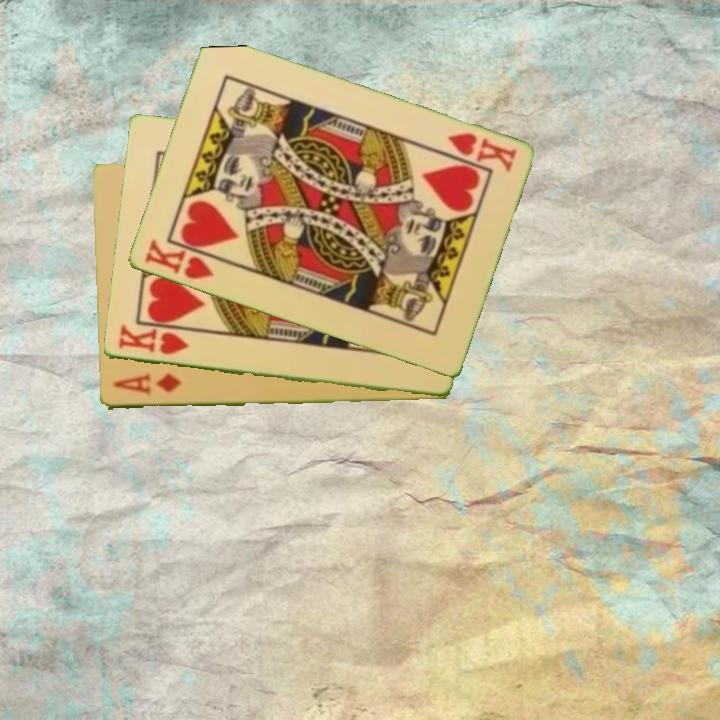Ad: (109, 371, 183, 399)
Kh: (140, 236, 225, 283), (442, 129, 519, 175), (114, 322, 192, 358)
